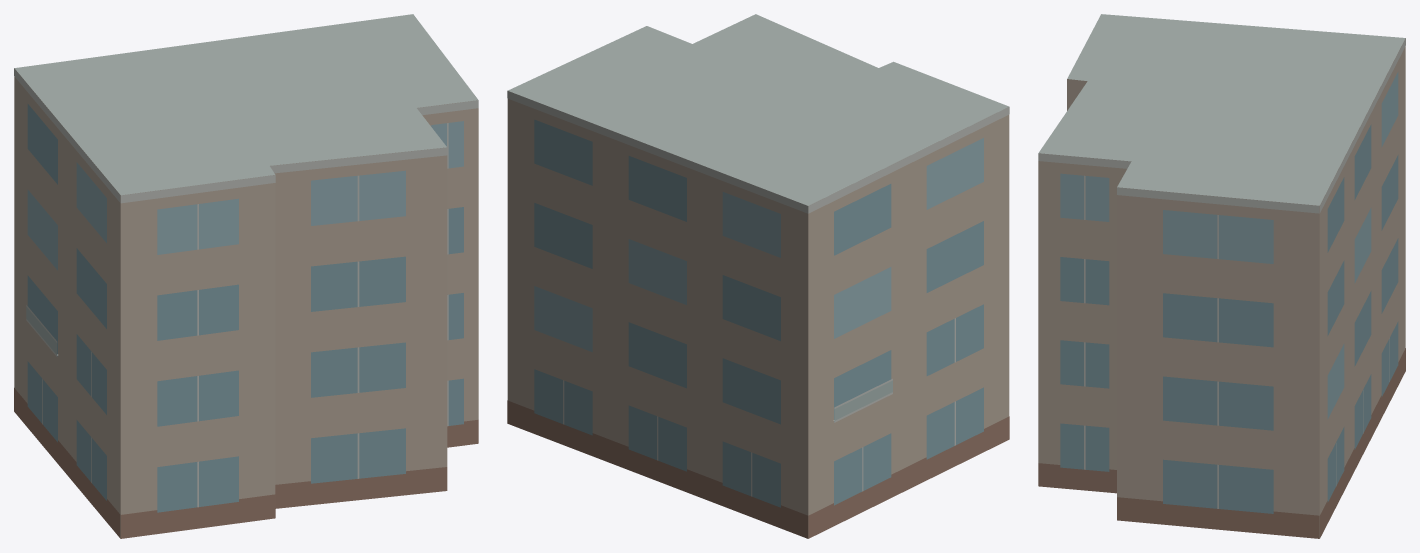
File: survey-upis-32864839.glb
3 views of the same model, side by side, from view 1: azimuth 30°, elevation 25°; view 2: azimuth 150°, elevation 25°; view 3: azimuth 270°, elevation 25° (orthographic). The views are drawn at different scales.
Parts seen in each view (by area): view 1: survey-upis-32864839.tmp; view 2: survey-upis-32864839.tmp; view 3: survey-upis-32864839.tmp.
Boxes of the visible parts, bbox=[...] form: survey-upis-32864839.tmp: bbox=[14, 14, 478, 538]; survey-upis-32864839.tmp: bbox=[507, 14, 1009, 538]; survey-upis-32864839.tmp: bbox=[1038, 14, 1405, 538].
Size of the model in its own units: 12.85 by 10.4 by 10.41.
